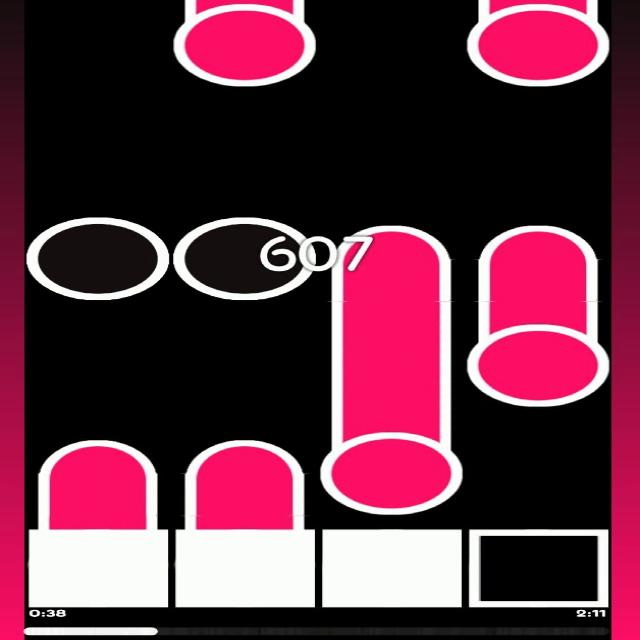end_hold: (323, 208, 463, 297), (470, 208, 603, 294), (32, 416, 167, 498), (178, 417, 312, 499)
note: (25, 215, 169, 300), (174, 216, 314, 300)
start_hold: (321, 410, 462, 516), (463, 311, 609, 407), (467, 0, 610, 88), (172, 0, 314, 88)
